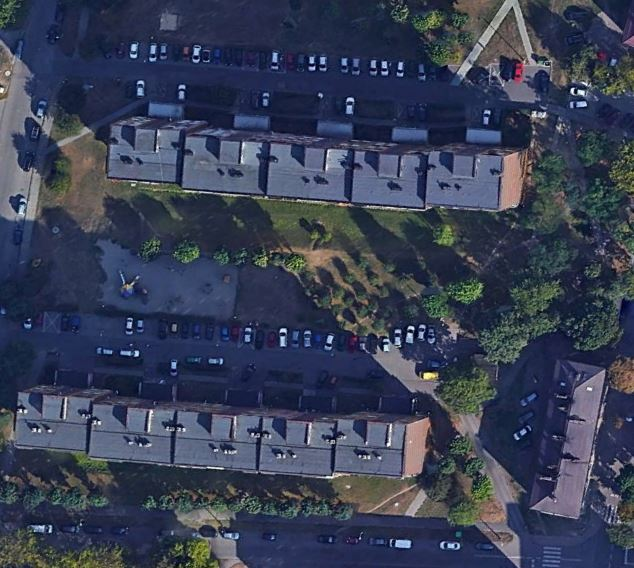block of flats: (102, 102, 532, 220), (5, 375, 432, 489), (524, 354, 611, 524)
